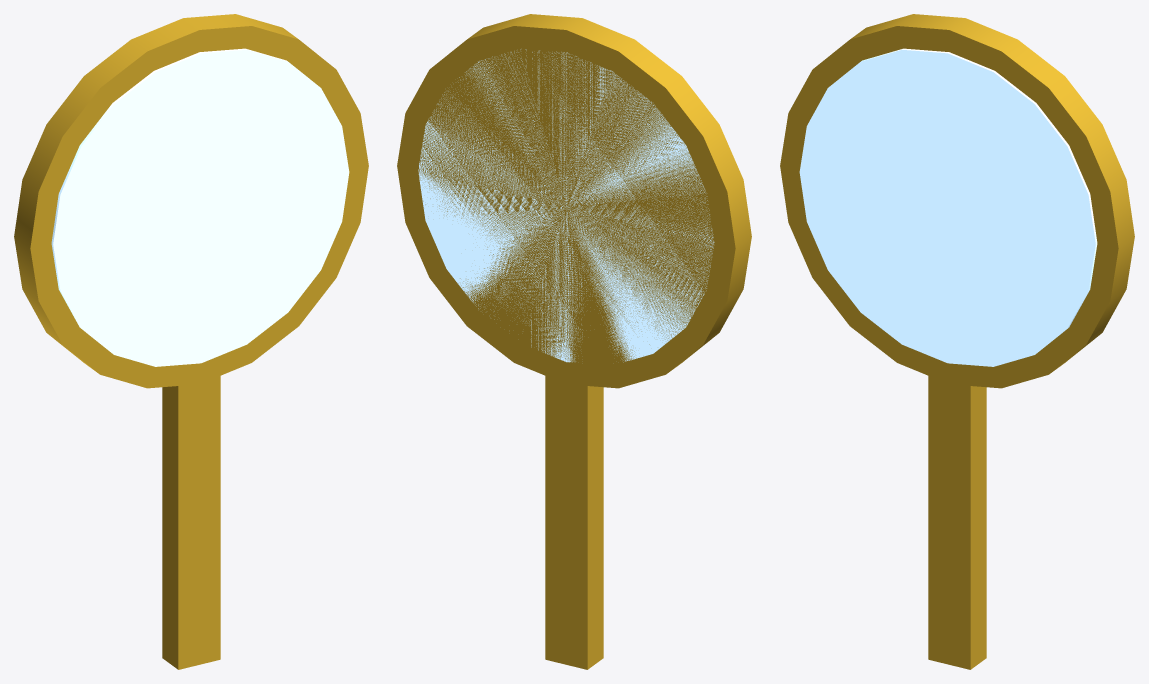
File: hand_mirror.glb
3 views of the same model, side by side, from view 1: azimuth 30°, elevation 25°; view 2: azimuth 150°, elevation 25°; view 3: azimuth 330°, elevation 25° (orthographic).
Visible parts, largest first — view 1: hand_mirror; view 2: hand_mirror; view 3: hand_mirror.
Part boxes in pixels (bbox=[...]): hand_mirror: bbox=[14, 14, 368, 669]; hand_mirror: bbox=[397, 14, 751, 669]; hand_mirror: bbox=[780, 14, 1134, 669].
Size of the model in its own units: 0.24 by 0.43 by 0.022.
